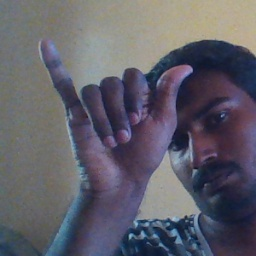J: (37, 37, 193, 188)
